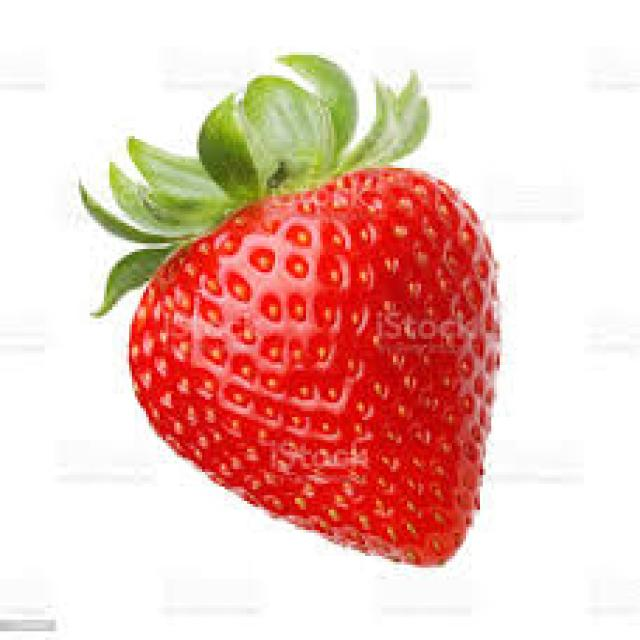strawberry: (82, 50, 505, 576)
